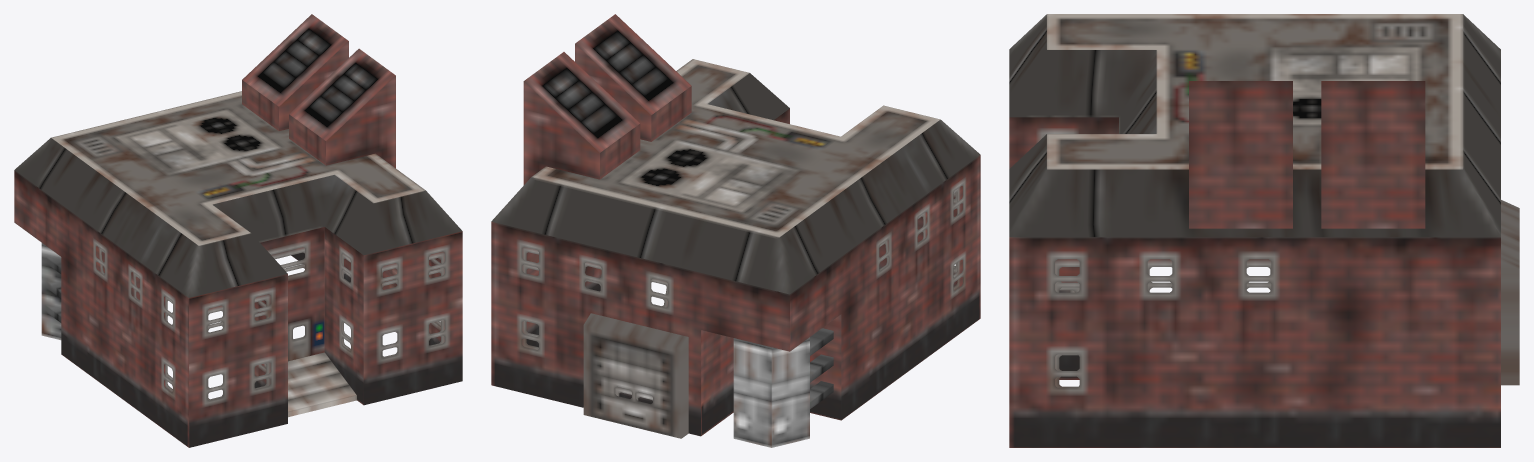
Rendered from heavyindustrial.glb.
The picture shows the model from 3 angles, left to right: view 1: azimuth 30°, elevation 25°; view 2: azimuth 150°, elevation 25°; view 3: azimuth 270°, elevation 25°; orthographic projection. The views are drawn at different scales.
Visible parts, largest first — view 1: HeavyIndustry, LitWin_HeavyIndustrial; view 2: HeavyIndustry, LitWin_HeavyIndustrial; view 3: HeavyIndustry, LitWin_HeavyIndustrial.
Boxes of the visible parts, x1,y1,x2,y2 form: HeavyIndustry: (14, 14, 462, 447); LitWin_HeavyIndustrial: (96, 246, 444, 400); HeavyIndustry: (491, 14, 980, 447); LitWin_HeavyIndustrial: (522, 186, 962, 400); HeavyIndustry: (1009, 14, 1519, 447); LitWin_HeavyIndustrial: (1055, 259, 1271, 387).
Size of the model in its own units: 16.92 by 15.34 by 19.44.
1 material, 1 textured.
